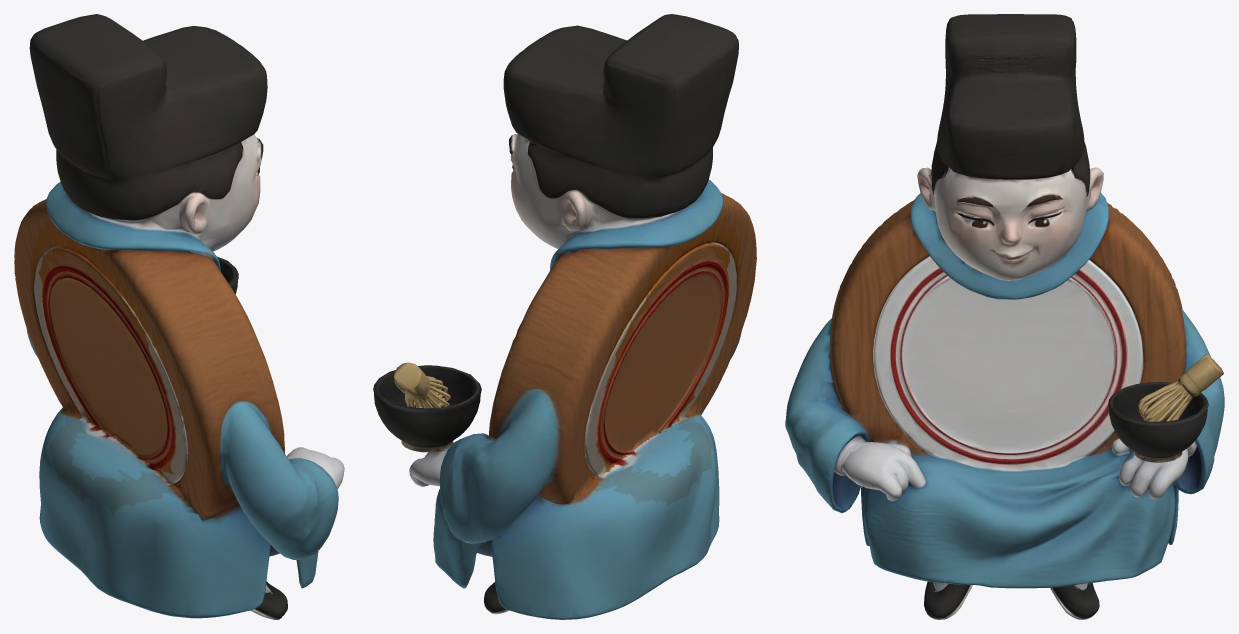
The model's file is c_song.glb.
3 renders of one model, left to right at view 1: azimuth 30°, elevation 25°; view 2: azimuth 150°, elevation 25°; view 3: azimuth 270°, elevation 25°, orthographic. The views are drawn at different scales.
Parts seen in each view (by area): view 1: tripo_node_d1b388cc-ff2b-4f75-9426-c06cafbd495b; view 2: tripo_node_d1b388cc-ff2b-4f75-9426-c06cafbd495b; view 3: tripo_node_d1b388cc-ff2b-4f75-9426-c06cafbd495b.
Boxes of the visible parts, x1,y1,x2,y2 form: tripo_node_d1b388cc-ff2b-4f75-9426-c06cafbd495b: (14, 14, 344, 619); tripo_node_d1b388cc-ff2b-4f75-9426-c06cafbd495b: (373, 14, 756, 619); tripo_node_d1b388cc-ff2b-4f75-9426-c06cafbd495b: (785, 14, 1224, 619).
Size of the model in its own units: 0.4481 by 0.981 by 0.7313.
Materials: 1 (1 with a texture image).
